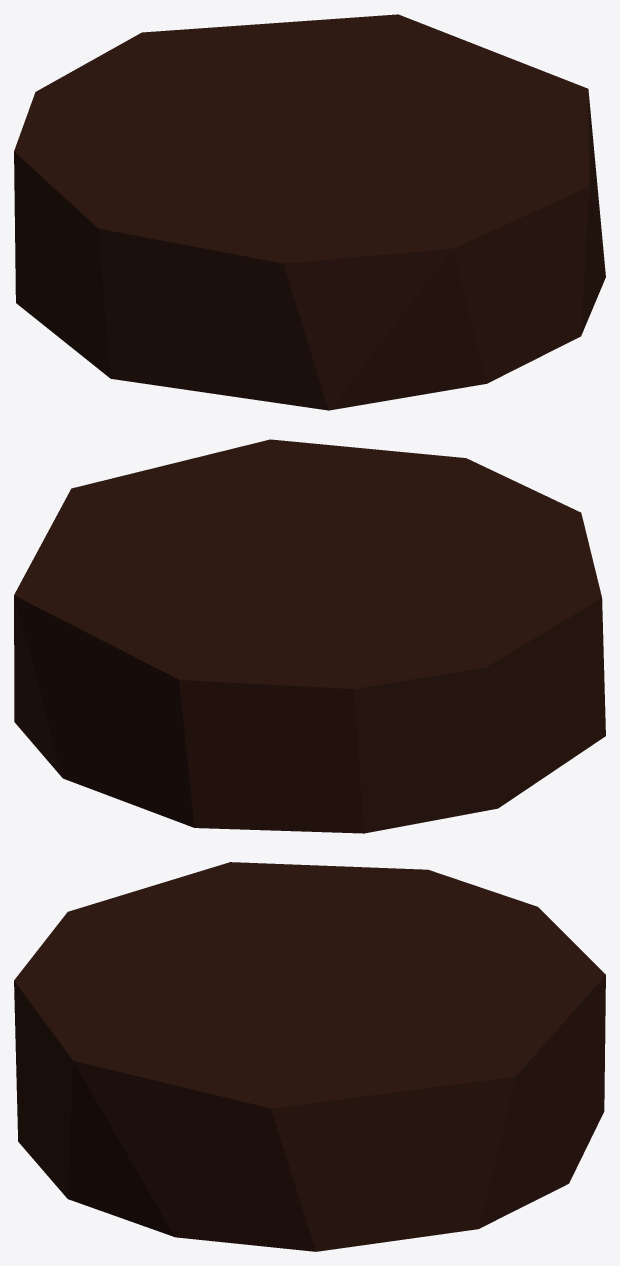
File: DoneMeat.obj
3 renders of one model, top to bottom at view 1: azimuth 30°, elevation 25°; view 2: azimuth 150°, elevation 25°; view 3: azimuth 270°, elevation 25°, orthographic.
Parts seen in each view (by area): view 1: Цилиндр; view 2: Цилиндр; view 3: Цилиндр.
Part boxes in pixels (<box>): Цилиндр: <box>14,14,605,410</box>; Цилиндр: <box>14,439,605,833</box>; Цилиндр: <box>14,862,605,1251</box>.
Size of the model in its own units: 0.6006 by 0.1633 by 0.6097.
